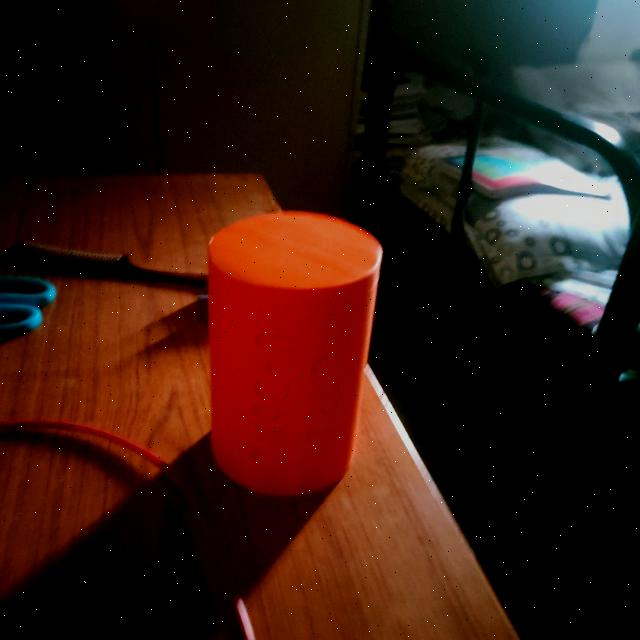Cylinder: (207, 209, 385, 497)
